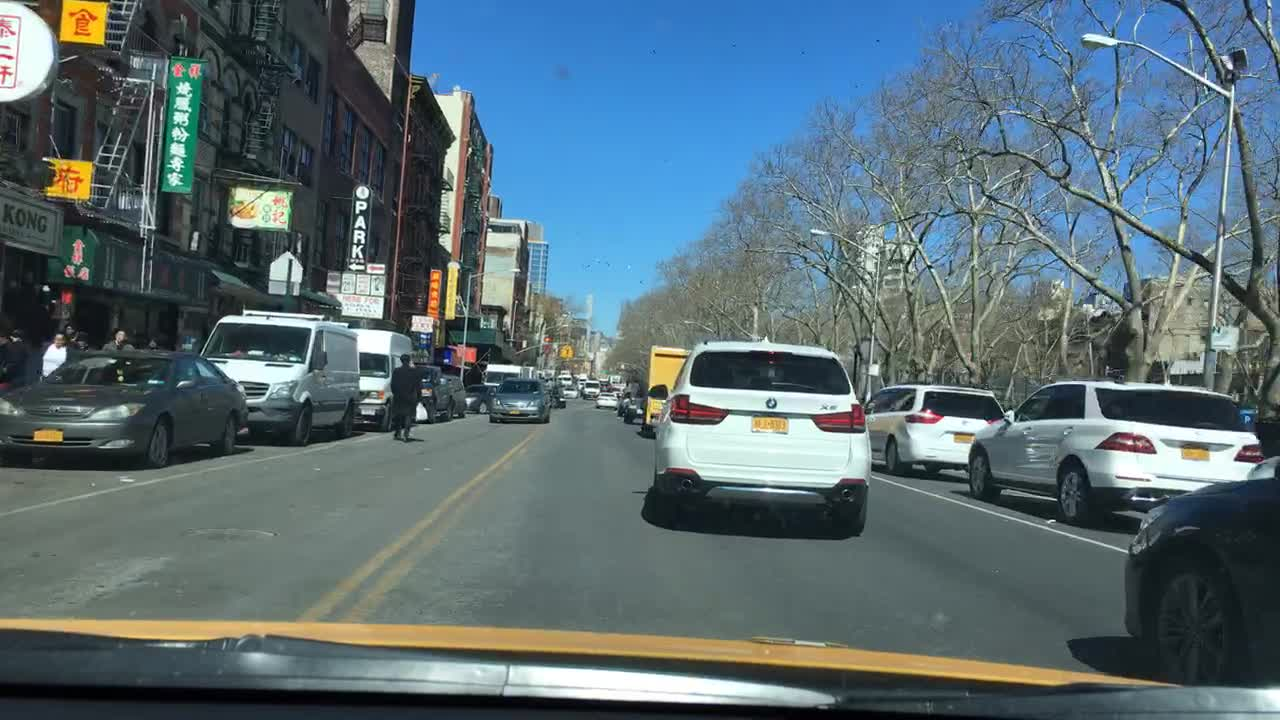car: (656, 332, 868, 535), (966, 378, 1259, 523), (1119, 453, 1279, 684), (0, 348, 247, 467), (195, 310, 362, 444), (862, 383, 1006, 476), (355, 327, 413, 425), (492, 381, 551, 423), (413, 360, 450, 418), (443, 373, 467, 418), (460, 381, 488, 416), (539, 378, 565, 413), (618, 390, 642, 425), (1244, 457, 1279, 478), (595, 390, 616, 411)
person: (385, 353, 427, 443), (8, 334, 32, 387), (1, 332, 18, 394), (43, 334, 69, 374), (100, 327, 133, 353), (57, 318, 76, 334), (76, 334, 88, 353), (146, 338, 161, 352)
traffic light: (564, 345, 571, 362)
traffic sign: (267, 250, 301, 294)
truck: (640, 345, 686, 436), (481, 360, 523, 392), (581, 378, 602, 395), (555, 373, 574, 387), (525, 366, 537, 381)
